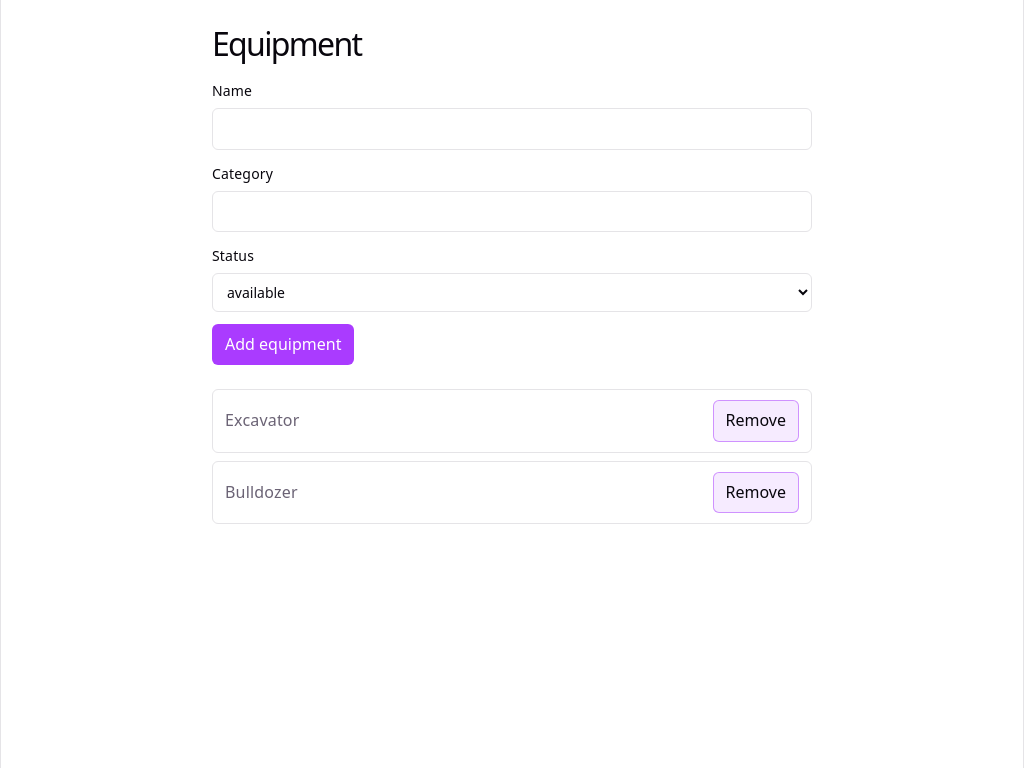
equipment is removed
Click the button "Remove" in the row of "Excavator" at coordinates (756, 421), box [712, 400, 799, 442]
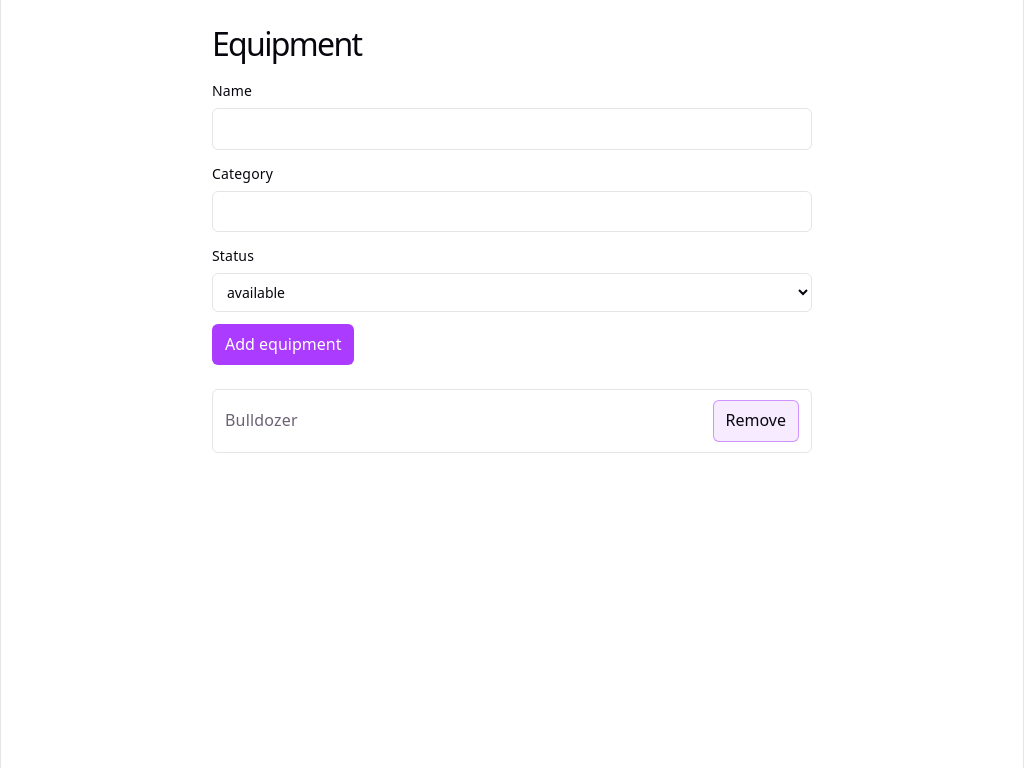
Check: the list item "equipment-list-excavator" is gone
